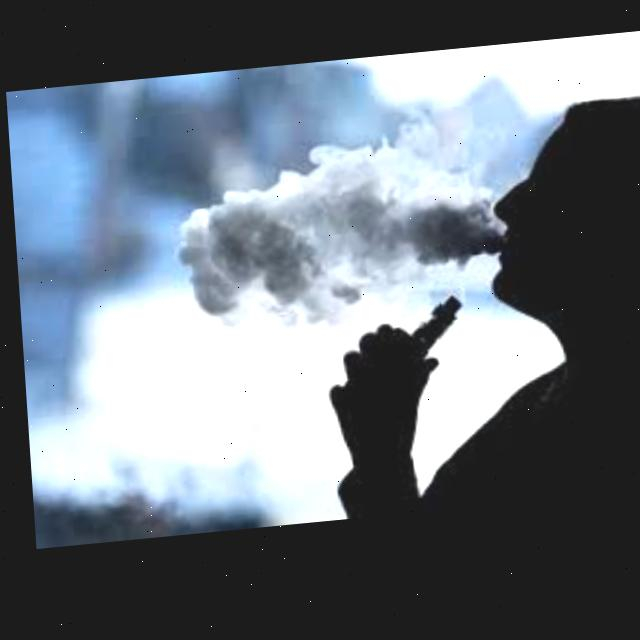vape: (401, 302, 461, 366)
